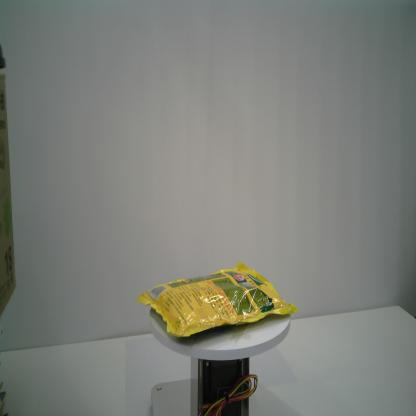Seasoner: (136, 261, 298, 338)
